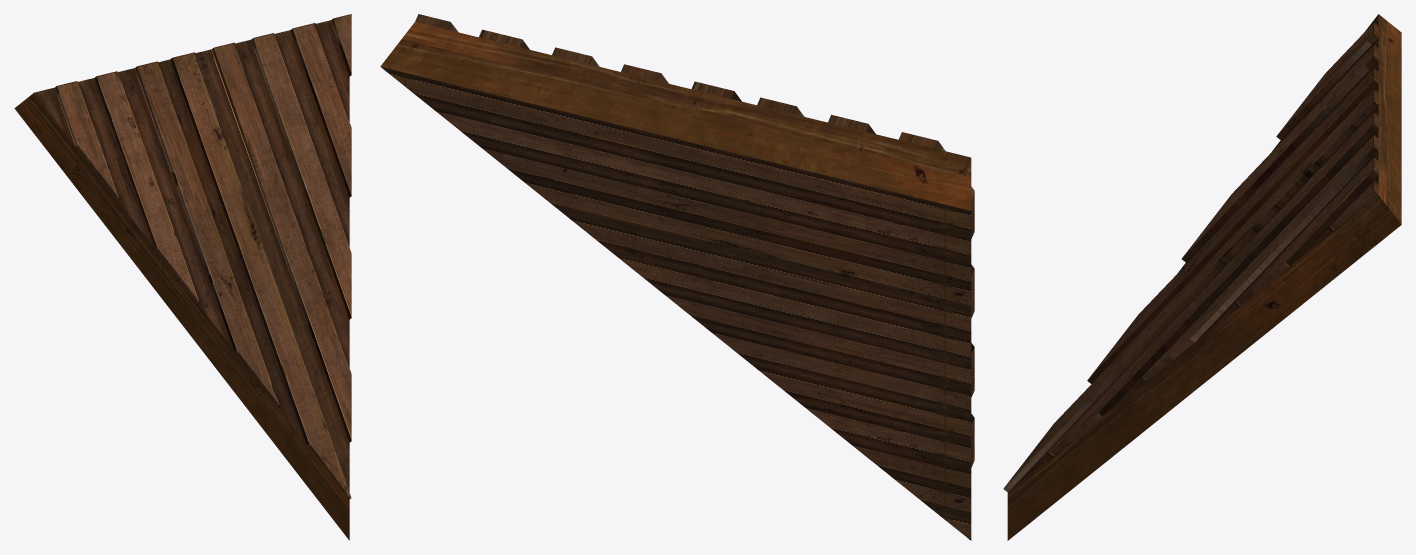
3 views of the same model, side by side, from view 1: azimuth 30°, elevation 25°; view 2: azimuth 150°, elevation 25°; view 3: azimuth 270°, elevation 25° (orthographic). The views are drawn at different scales.
Visible parts, largest first — view 1: SM_BB_T2_Roof_Triangle_Large_LOD0; view 2: SM_BB_T2_Roof_Triangle_Large_LOD0; view 3: SM_BB_T2_Roof_Triangle_Large_LOD0.
Boxes of the visible parts, x1,y1,x2,y2 form: SM_BB_T2_Roof_Triangle_Large_LOD0: (14, 14, 351, 540); SM_BB_T2_Roof_Triangle_Large_LOD0: (380, 14, 974, 540); SM_BB_T2_Roof_Triangle_Large_LOD0: (1003, 14, 1401, 540).
Size of the model in its own units: 3.19 by 3.4 by 2.79.
Materials: 2 (2 with a texture image).
